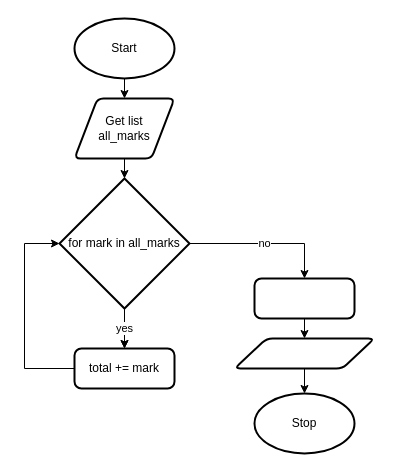
Image size: 393x471. Some labels were removed from this diagram. Here are the shapes that lost their labels. From the top down, the centre of each, then its label:
At pixel 304 298: "average = total / len(all_marks)".
At pixel 304 353: "return average".
